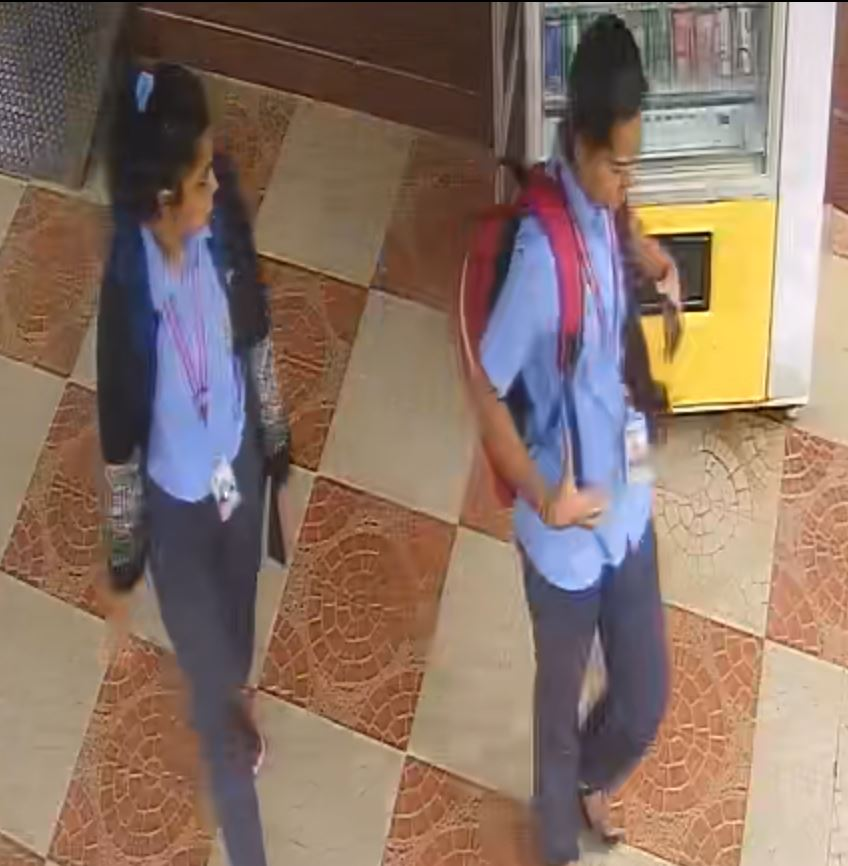intruder: (83, 65, 328, 866), (457, 16, 667, 866)
